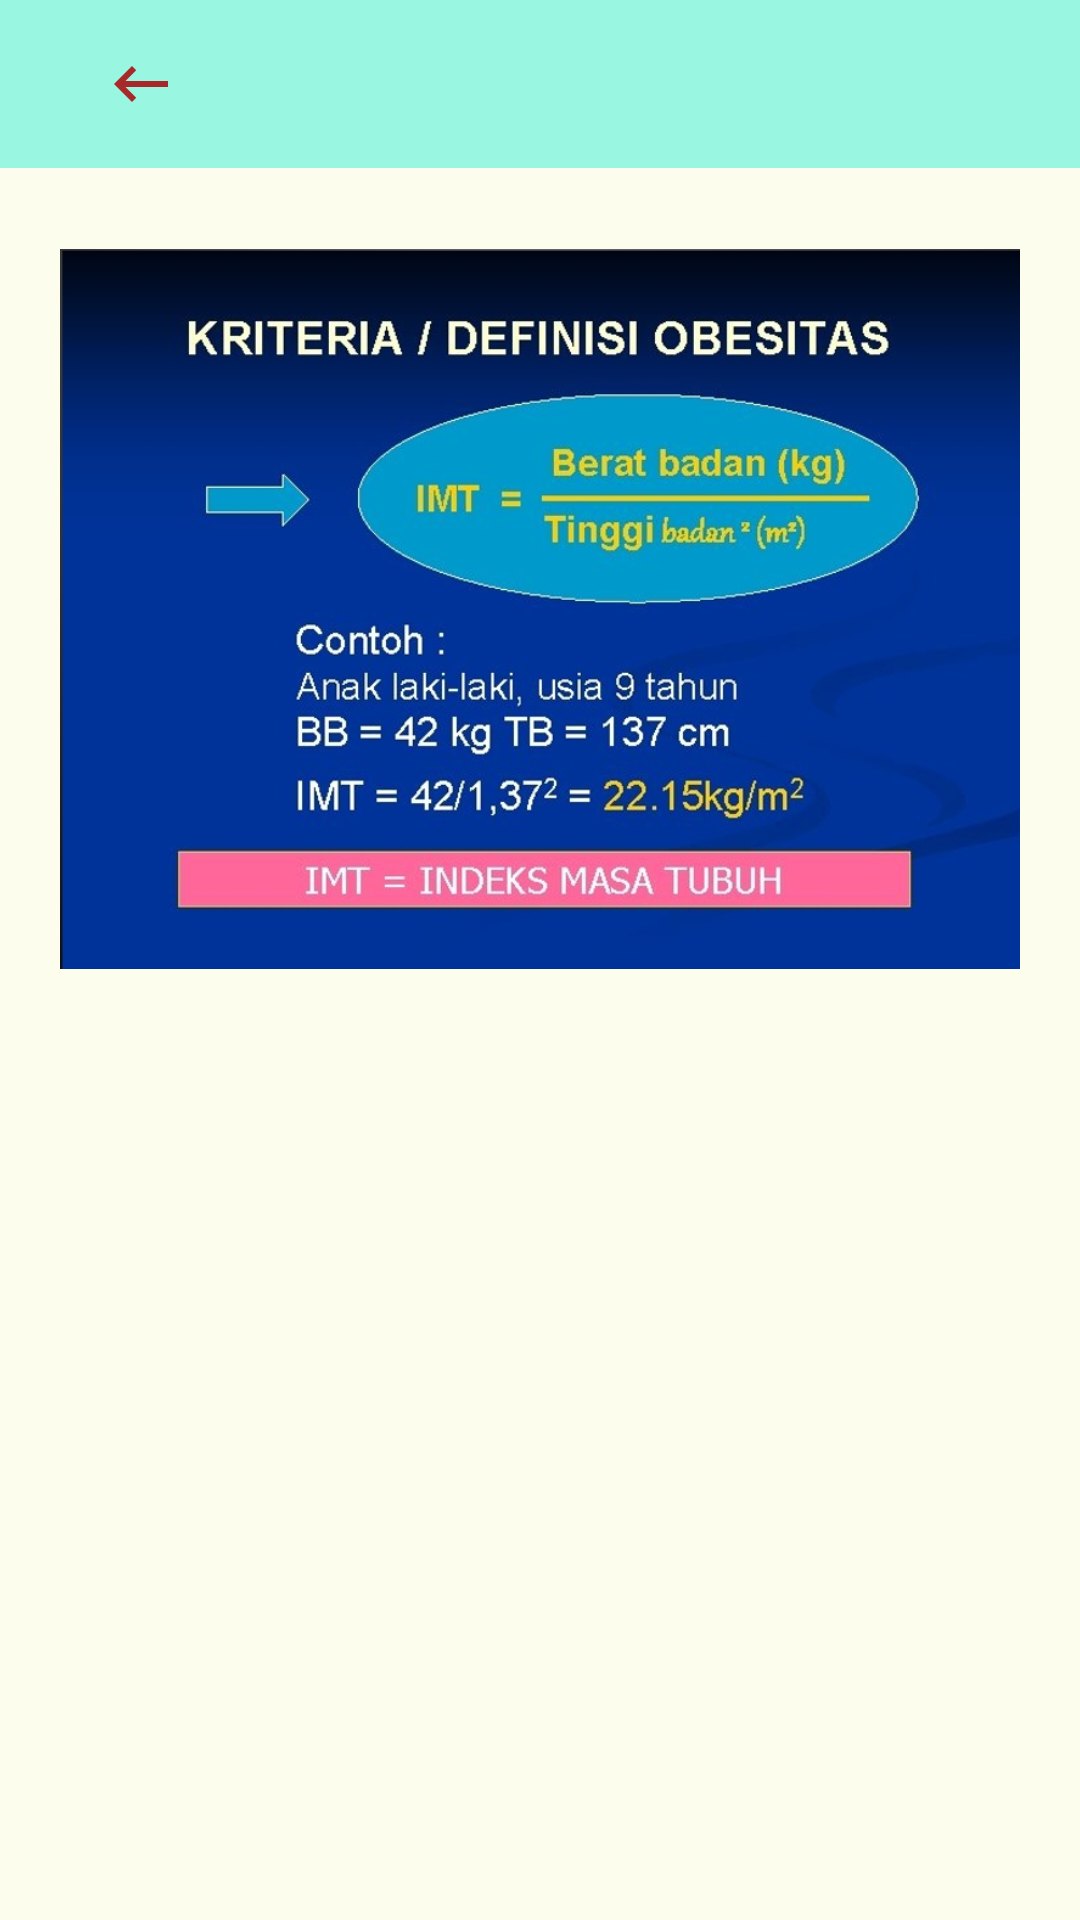

Locate icon controls on the screen. Image size 1080 x 1920, boxes as box=[x1, y1, x2, y2].
arrow back: box=[114, 66, 168, 102]
